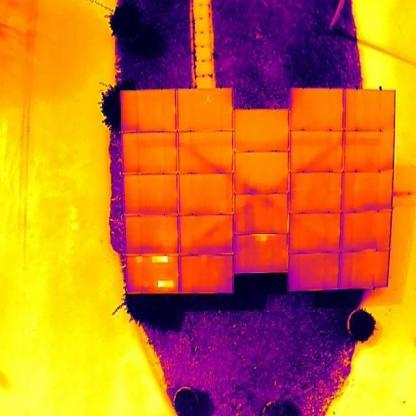anomaly: (155, 278, 175, 289), (149, 255, 171, 265), (135, 255, 144, 264)
